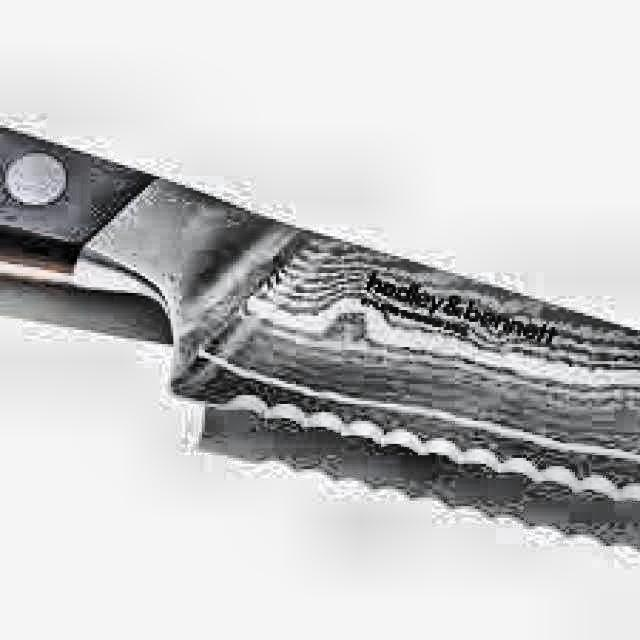knife: (1, 114, 640, 508)
